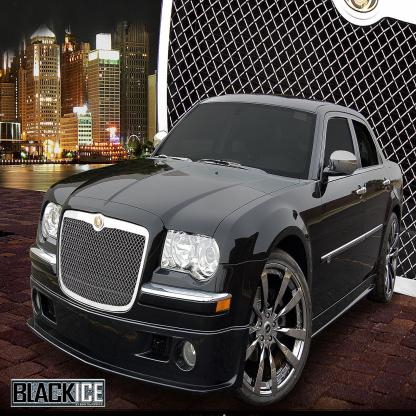Vehicle: (25, 94, 406, 402)
